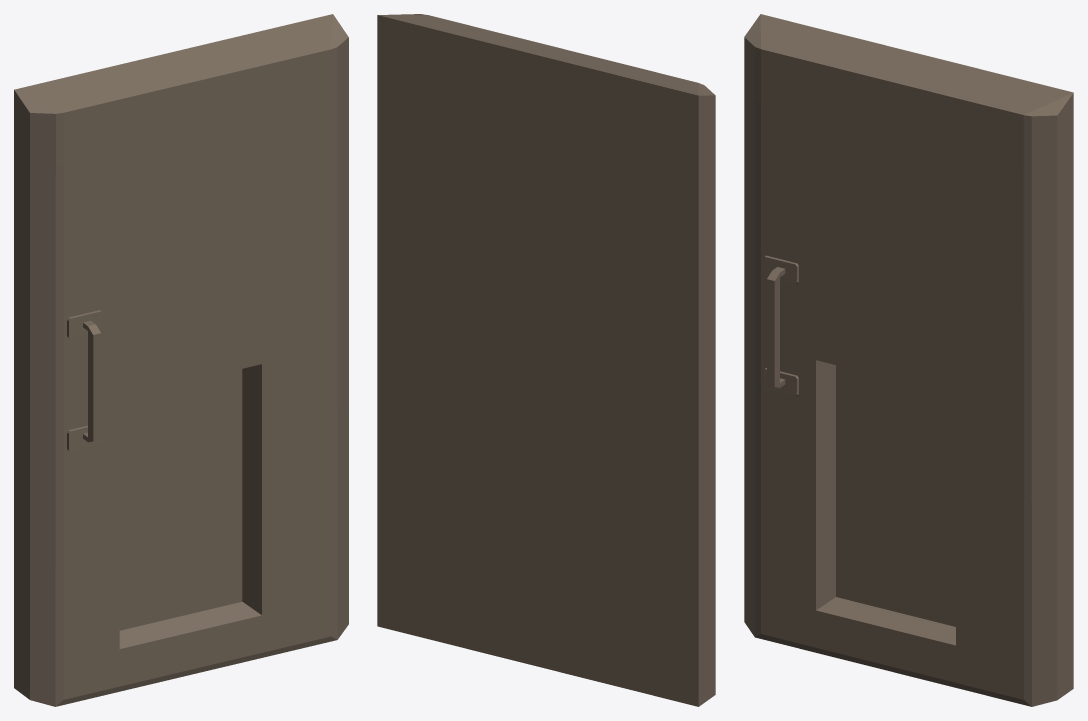
3 views of the same model, side by side, from view 1: azimuth 30°, elevation 25°; view 2: azimuth 150°, elevation 25°; view 3: azimuth 330°, elevation 25° (orthographic). The views are drawn at different scales.
Visible parts, largest first — view 1: SM_H5_D1; view 2: SM_H5_D1; view 3: SM_H5_D1.
Part boxes in pixels (x1,y1,x2,y2): SM_H5_D1: (14,14,348,706); SM_H5_D1: (377,14,715,706); SM_H5_D1: (744,14,1073,706).
Bounding box in the file's own units: 136 × 27.02 × 247.
